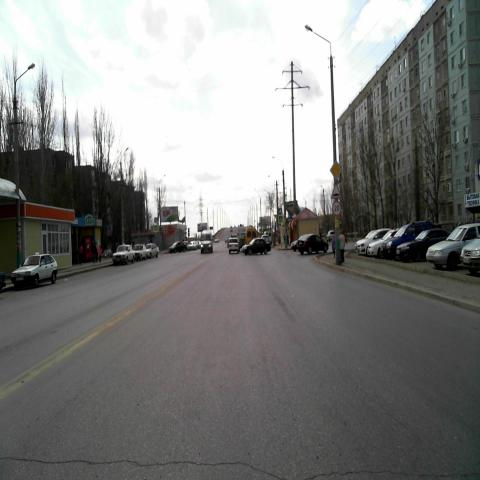1_17: (330, 182, 341, 198)
